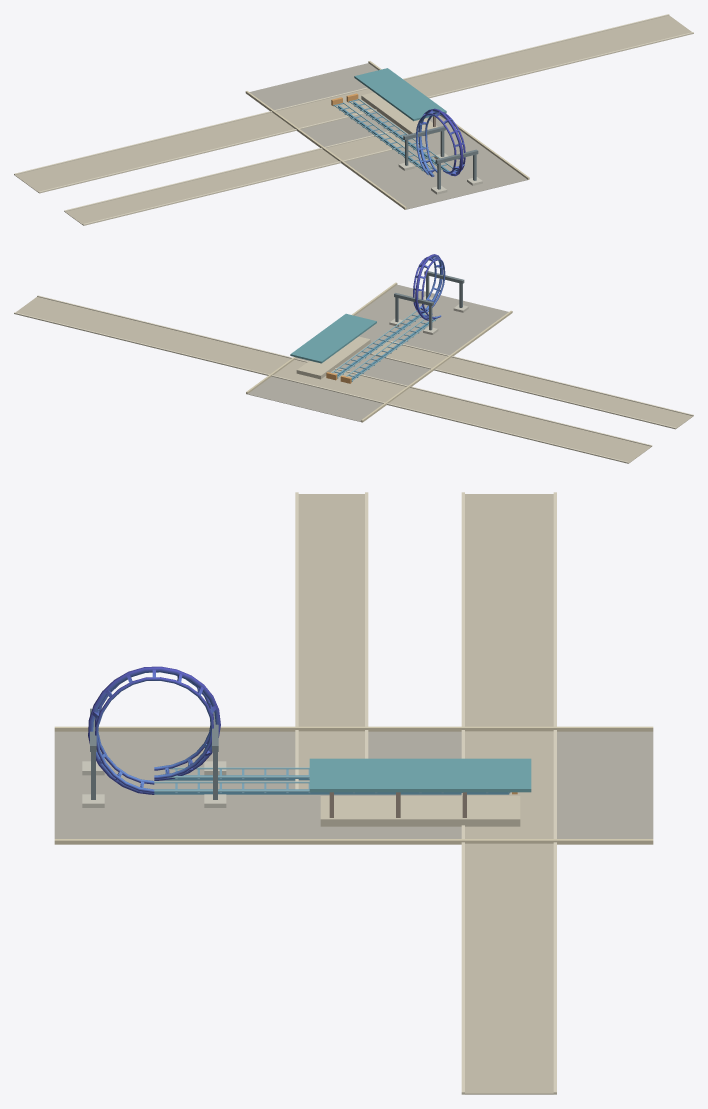
The model's file is gardens-5-1.glb.
3 views of the same model, one above another, from view 1: azimuth 30°, elevation 25°; view 2: azimuth 150°, elevation 25°; view 3: azimuth 270°, elevation 25° (orthographic). The views are drawn at different scales.
Parts seen in each view (by area): view 1: gardens-5-1; view 2: gardens-5-1; view 3: gardens-5-1.
Part boxes in pixels (left/top/right/bottom): gardens-5-1: left=14, top=14, right=693, bottom=225; gardens-5-1: left=14, top=254, right=693, bottom=463; gardens-5-1: left=54, top=492, right=653, bottom=1094.
Bounding box in the file's own units: 256 × 23.94 × 108.
Materials: 14 (1 with a texture image).
